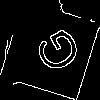G: (25, 25, 84, 81)
